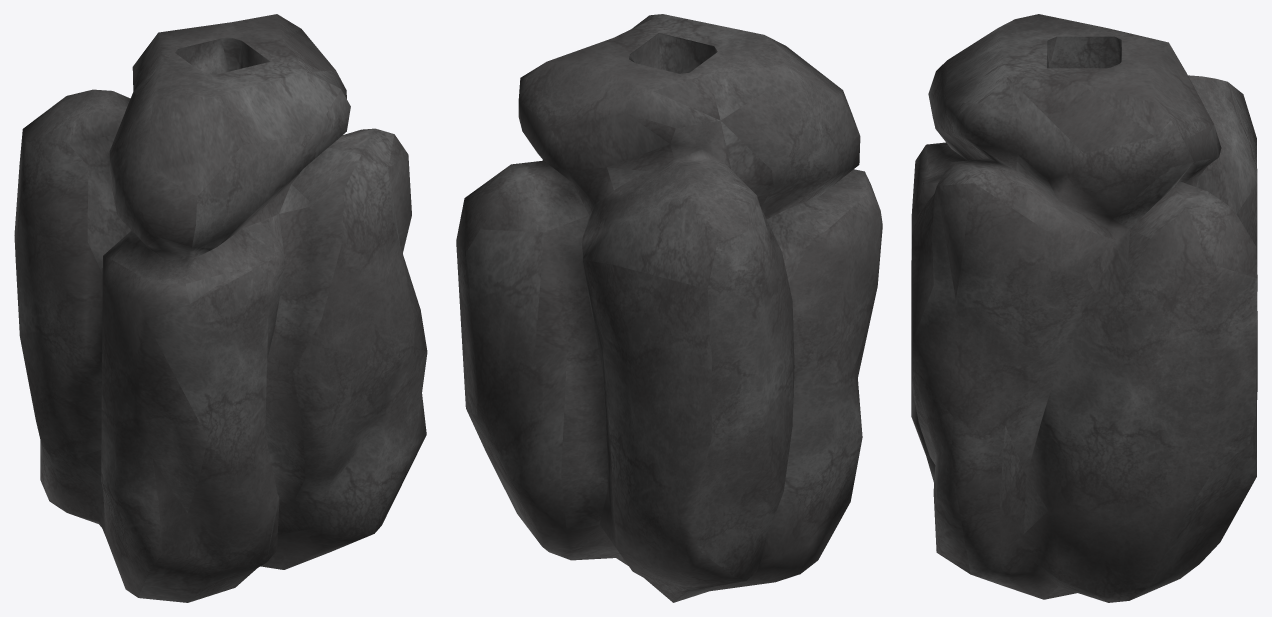
The model's file is Wasser_podest.glb.
The picture shows the model from 3 angles, left to right: view 1: azimuth 30°, elevation 25°; view 2: azimuth 150°, elevation 25°; view 3: azimuth 270°, elevation 25°; orthographic projection. The views are drawn at different scales.
Visible parts, largest first — view 1: Wasser_podest; view 2: Wasser_podest; view 3: Wasser_podest.
Boxes of the visible parts, bbox=[...] form: Wasser_podest: bbox=[14, 14, 427, 602]; Wasser_podest: bbox=[456, 14, 882, 602]; Wasser_podest: bbox=[911, 14, 1257, 602].
Bounding box in the file's own units: 1.35 × 2.29 × 1.35.
1 material, 1 textured.
